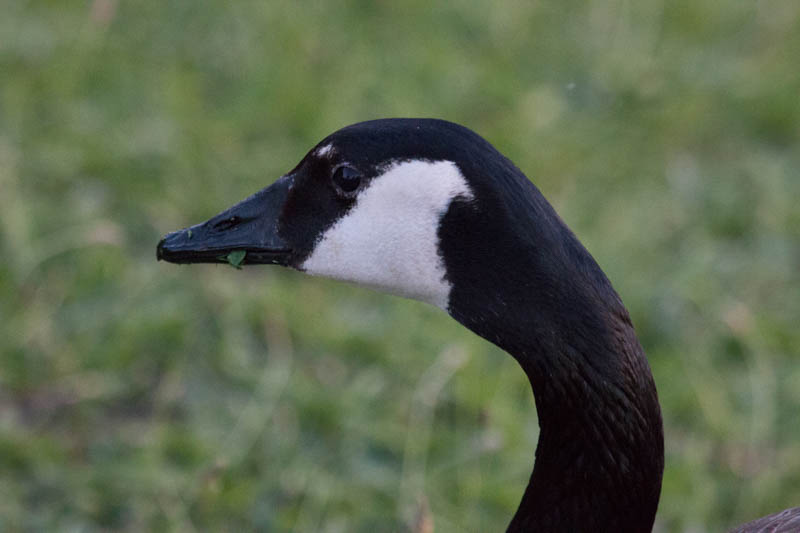goose-head: (155, 115, 518, 326)
